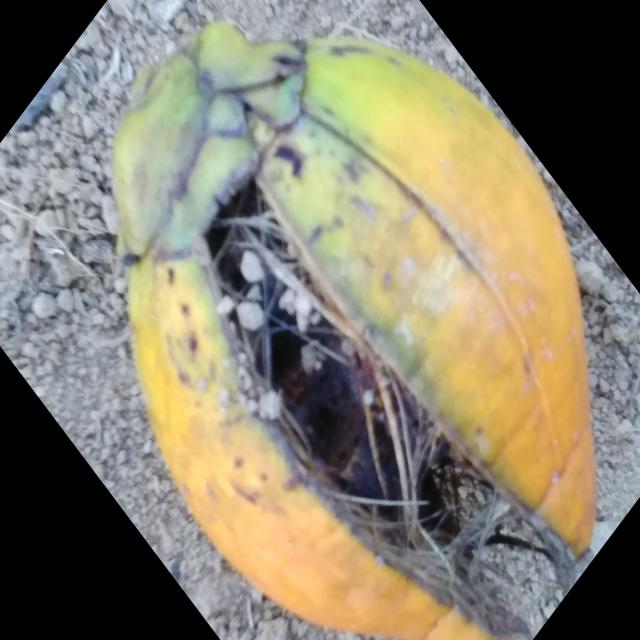damaged: (111, 0, 612, 640)
